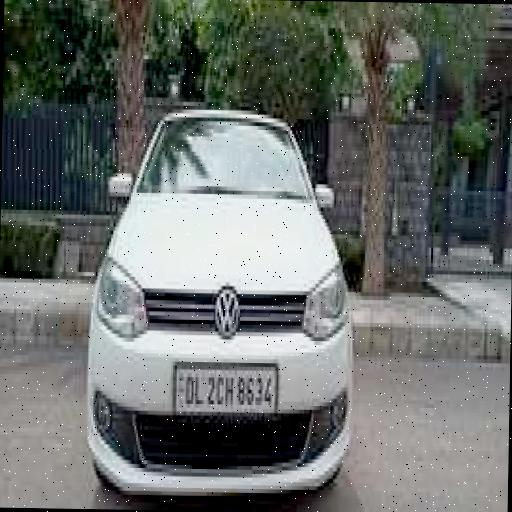license_plate`: (172, 362, 273, 410)
